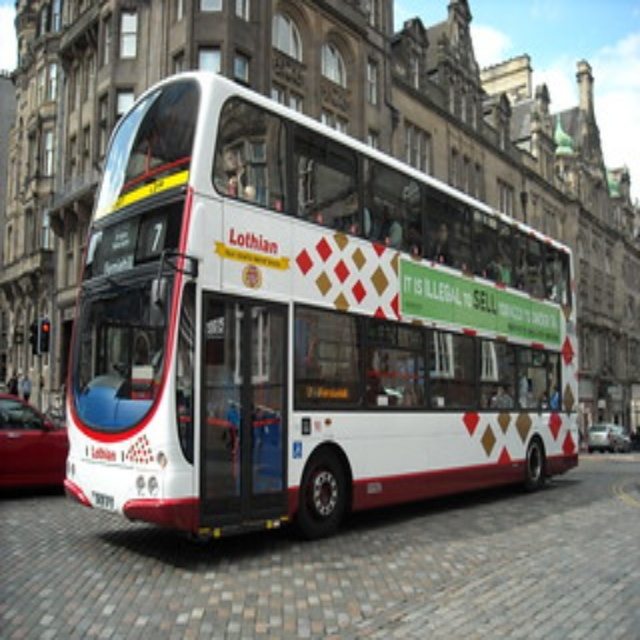Bus: (60, 69, 578, 541)
